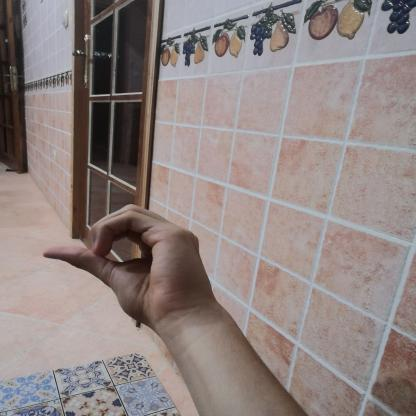WAW: (21, 194, 226, 340)
